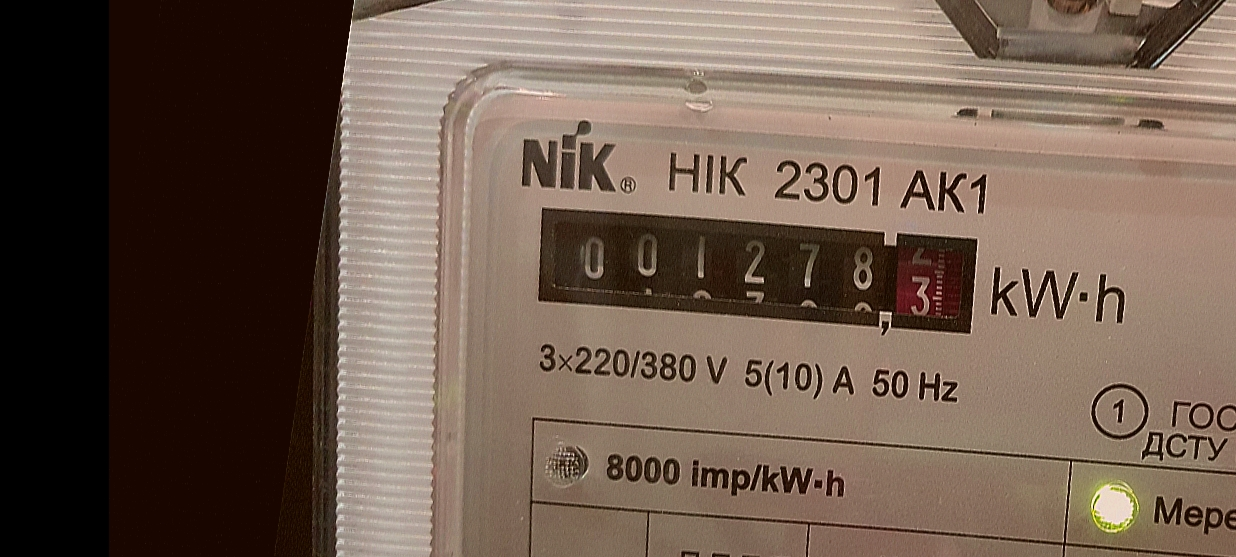0: (579, 231, 614, 282), (633, 229, 664, 279)
1: (691, 232, 715, 282)
2: (740, 236, 773, 286), (909, 244, 938, 269)
3: (906, 270, 938, 317)
7: (794, 239, 823, 290)
8: (849, 243, 880, 293)
screen: (510, 164, 1003, 373)
